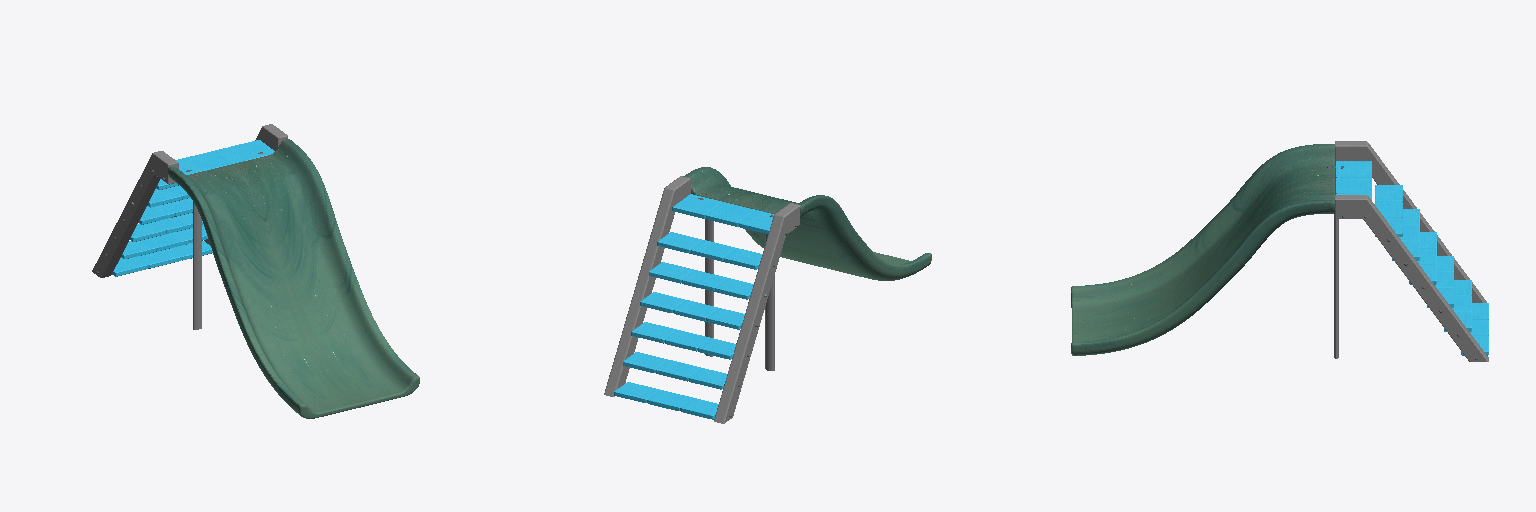
3 views of the same model, side by side, from view 1: azimuth 30°, elevation 25°; view 2: azimuth 150°, elevation 25°; view 3: azimuth 270°, elevation 25° (orthographic).
Visible parts, largest first — view 1: Slide; view 2: Slide; view 3: Slide.
Part boxes in pixels (x1,y1,x2,y2): Slide: (92,124,419,418); Slide: (604,167,931,423); Slide: (1071,141,1488,361).
Bounding box in the file's own units: 1.91 × 2.54 × 5.61.
Materials: 5 (2 with a texture image).